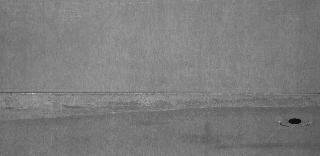punching hole: (288, 116, 304, 126)
welding line: (3, 88, 320, 100)
